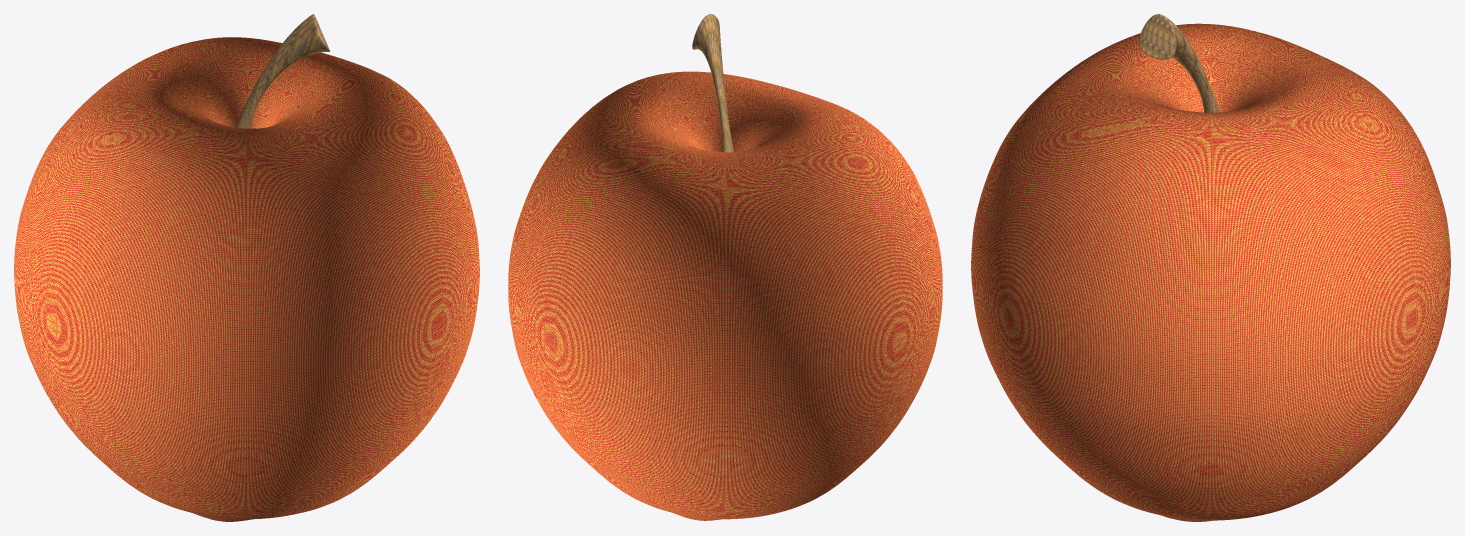
Rendered from manzana.glb.
The picture shows the model from 3 angles, left to right: view 1: azimuth 30°, elevation 25°; view 2: azimuth 150°, elevation 25°; view 3: azimuth 270°, elevation 25°; orthographic projection. The views are drawn at different scales.
Parts seen in each view (by area): view 1: Apple-OBJ; view 2: Apple-OBJ; view 3: Apple-OBJ.
Part boxes in pixels (x1,y1,x2,y2): Apple-OBJ: (14,14,479,521); Apple-OBJ: (508,14,942,520); Apple-OBJ: (971,14,1450,521).
Bounding box in the file's own units: 1.29 × 1.56 × 1.29.
Materials: 3 (2 with a texture image).
